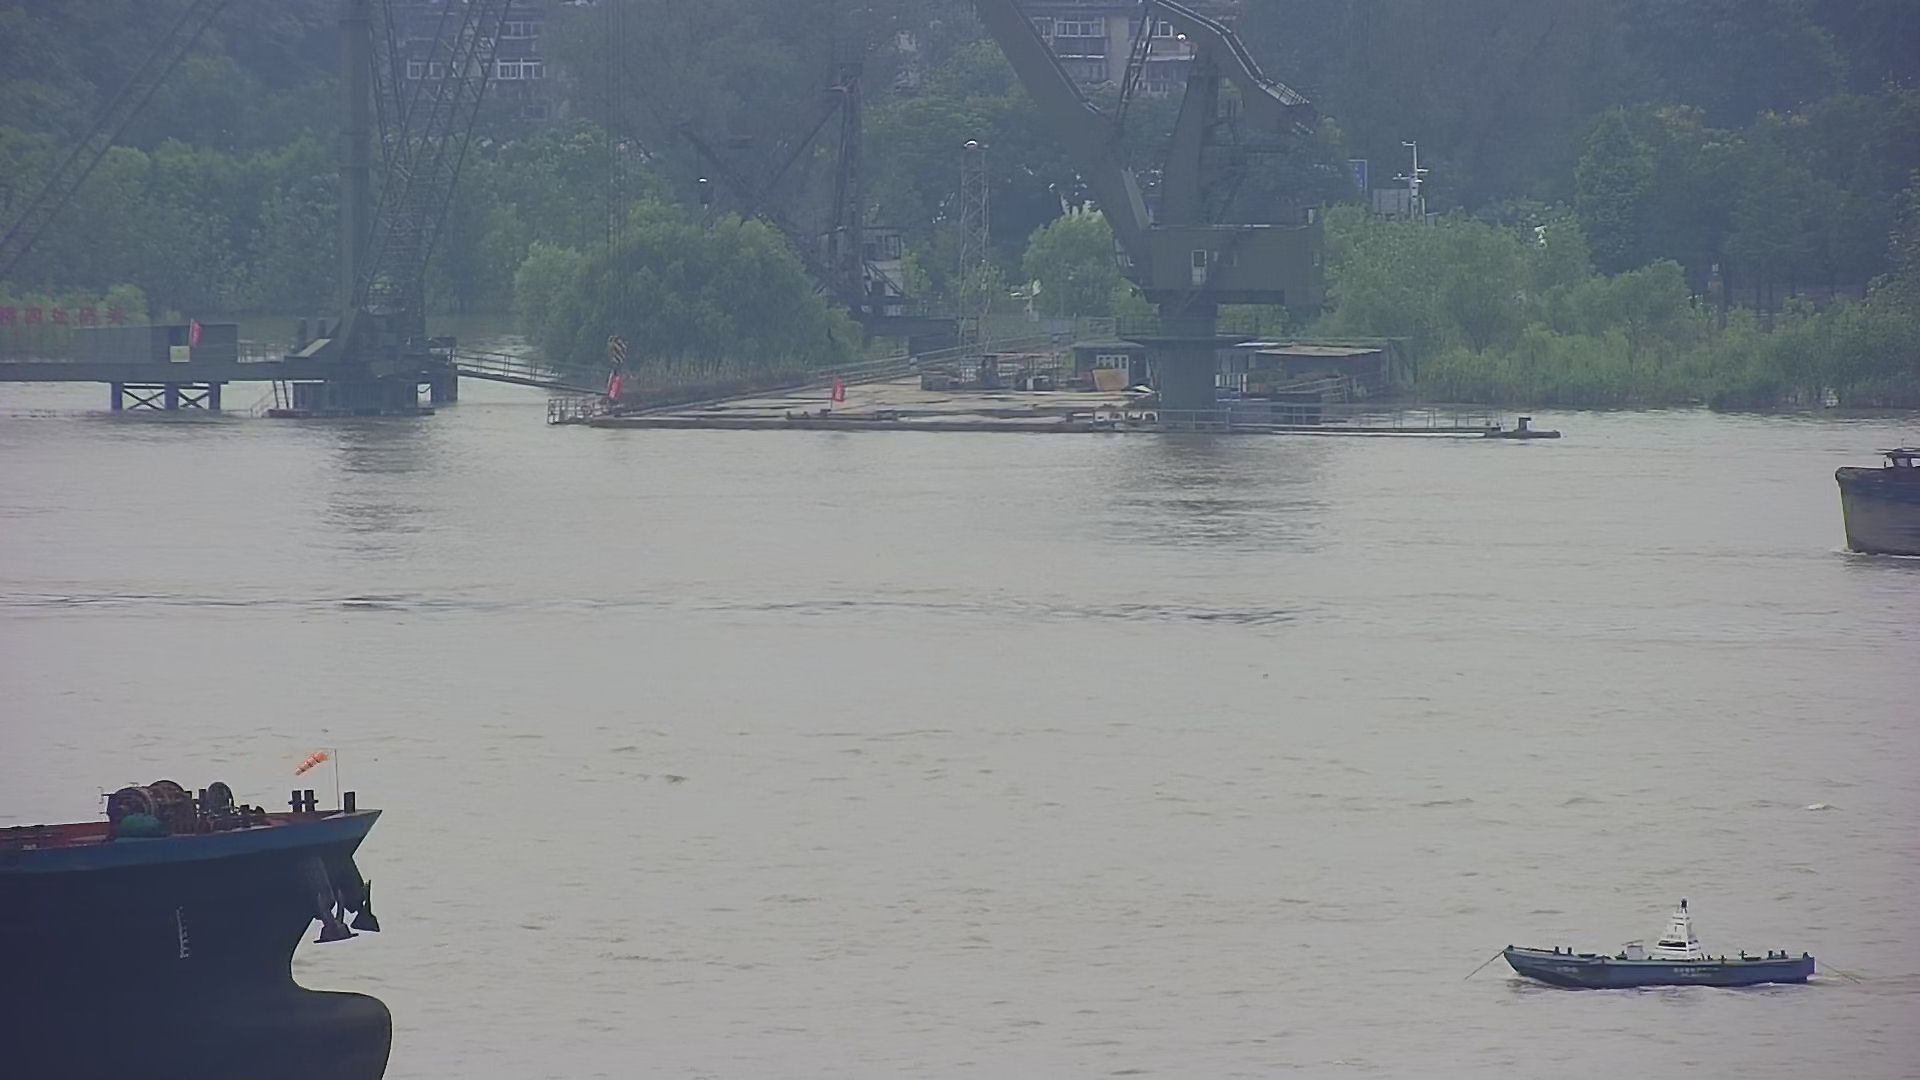boat: (1503, 895, 1820, 1000)
platform: (1, 1, 505, 431)
ship: (3, 735, 423, 1080), (1832, 411, 1920, 582)
